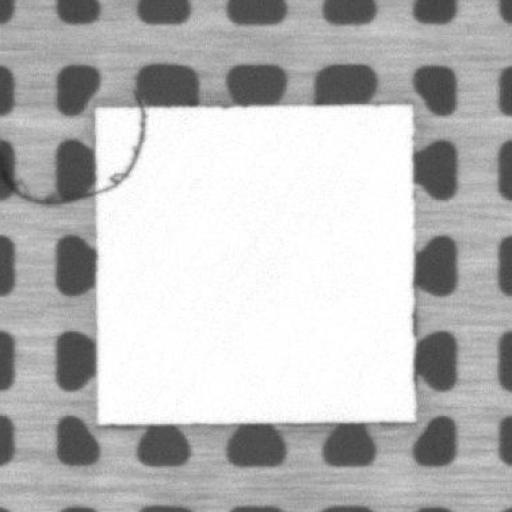DIE_INK: (98, 107, 146, 193)
